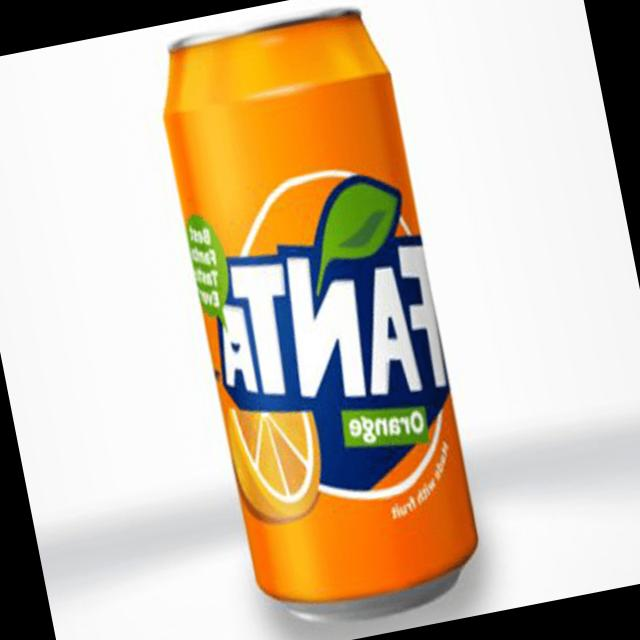fanta: (144, 0, 493, 633)
